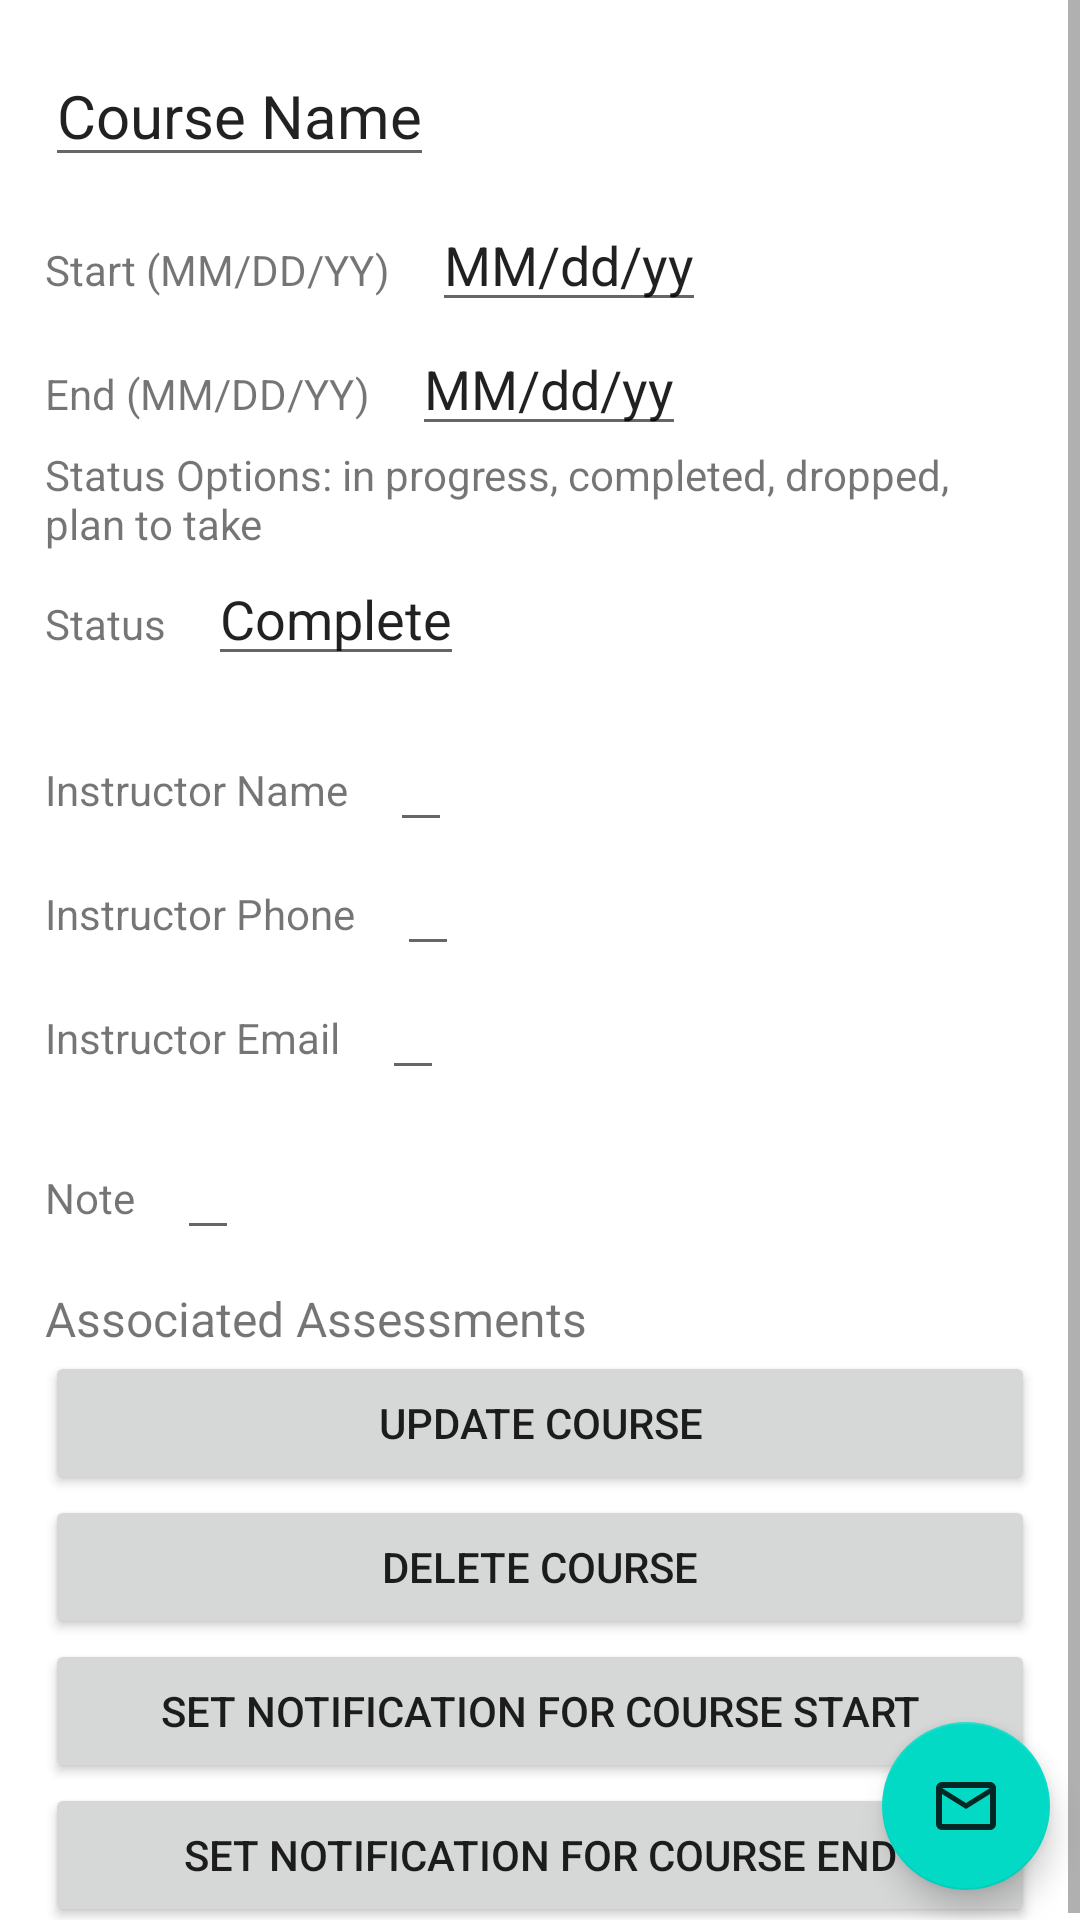

Named icons in this screenshot (1080 x 1920) and their centers, (x,y):
mail: (966,1806)
